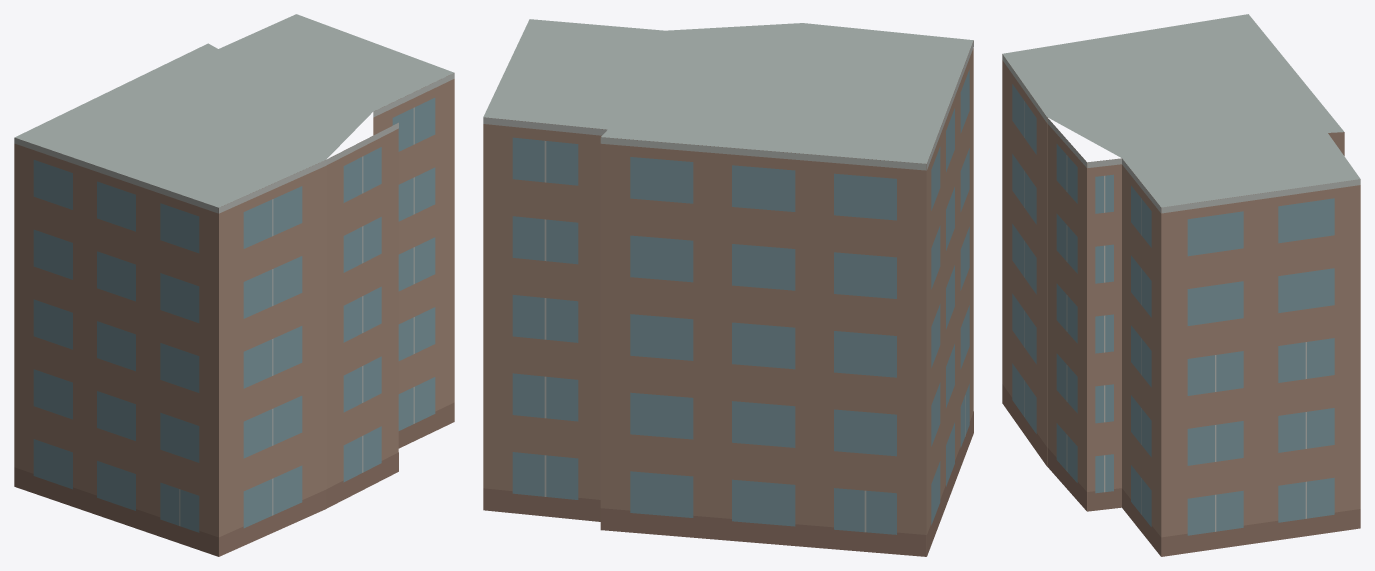
The model's file is survey-upis-33009409.glb.
3 renders of one model, left to right at view 1: azimuth 30°, elevation 25°; view 2: azimuth 150°, elevation 25°; view 3: azimuth 270°, elevation 25°, orthographic. The views are drawn at different scales.
Parts seen in each view (by area): view 1: survey-upis-33009409.tmp; view 2: survey-upis-33009409.tmp; view 3: survey-upis-33009409.tmp.
Part boxes in pixels (<box>): survey-upis-33009409.tmp: <box>14,14,454,556</box>; survey-upis-33009409.tmp: <box>483,19,973,556</box>; survey-upis-33009409.tmp: <box>1002,14,1360,556</box>.
Size of the model in its own units: 17 by 14.3 by 13.31.
